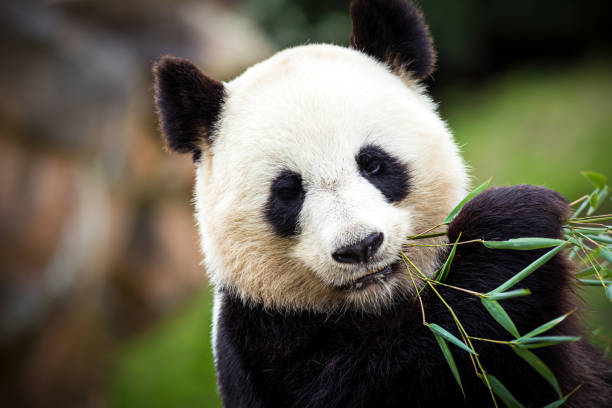panda: (115, 4, 521, 339)
